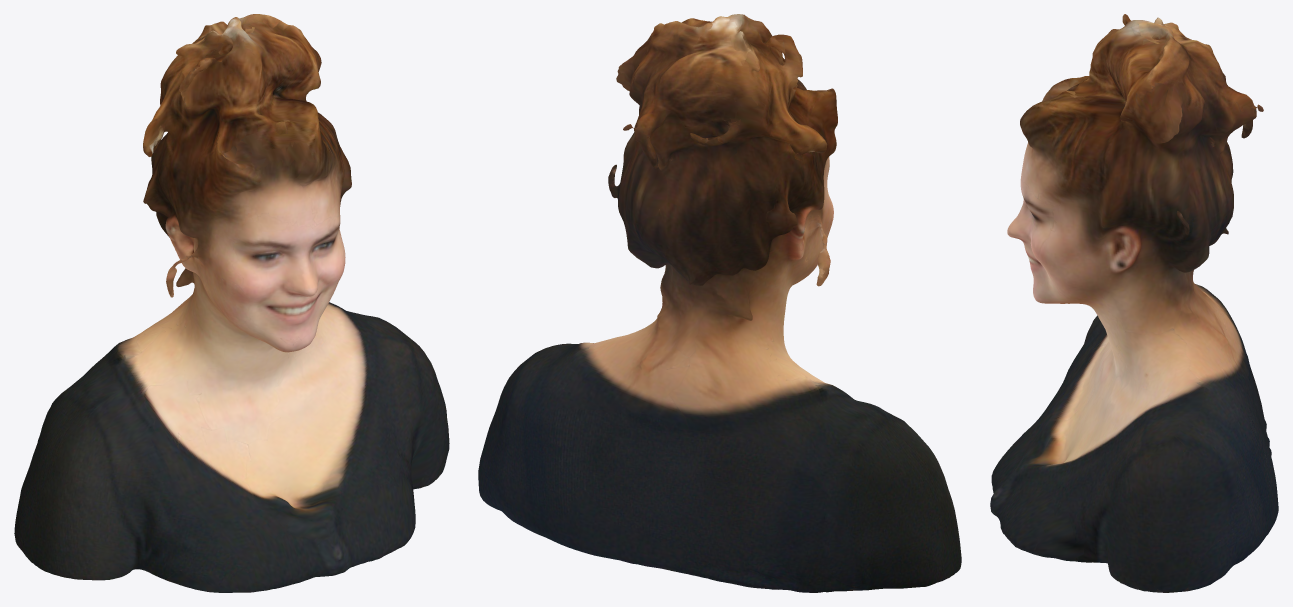
The model's file is people.glb.
The picture shows the model from 3 angles, left to right: view 1: azimuth 30°, elevation 25°; view 2: azimuth 150°, elevation 25°; view 3: azimuth 270°, elevation 25°; orthographic projection. The views are drawn at different scales.
Parts seen in each view (by area): view 1: Object_2; view 2: Object_2; view 3: Object_2.
Boxes of the visible parts, box(x1,y1,x2,y2) form: Object_2: box(14, 14, 449, 592); Object_2: box(478, 14, 961, 592); Object_2: box(990, 14, 1278, 592).
Size of the model in its own units: 0.4807 by 0.5372 by 0.292.
Materials: 1 (1 with a texture image).
